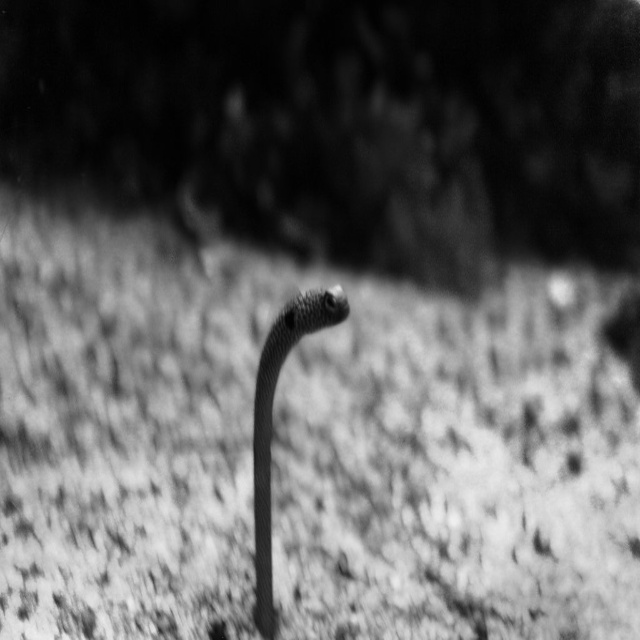Snake: (246, 281, 350, 639)
